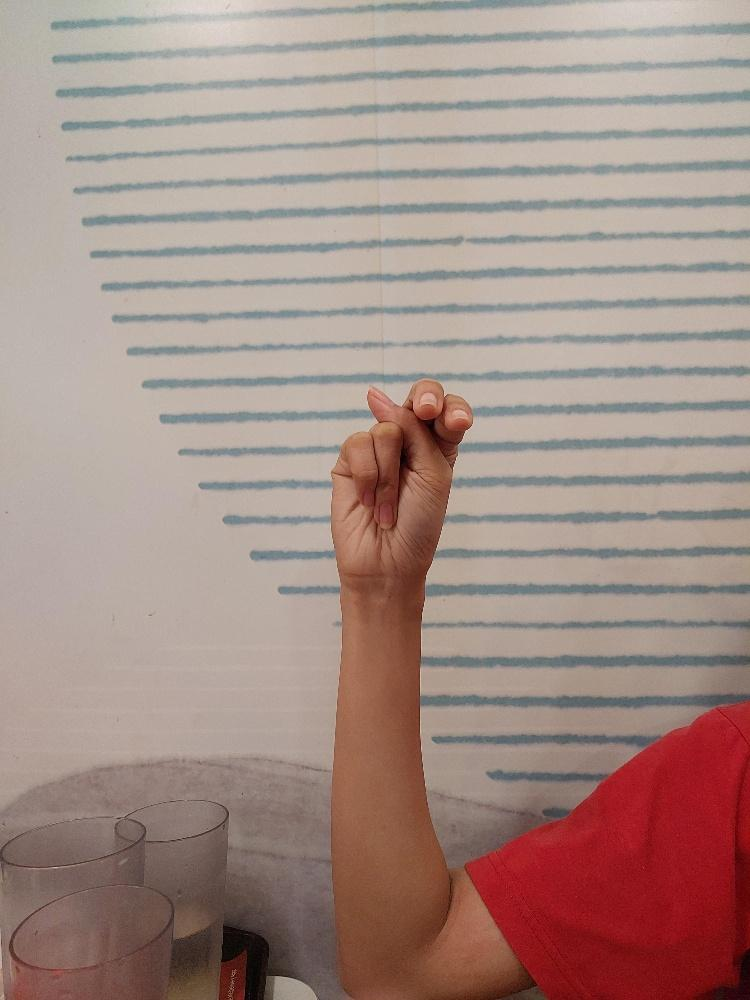n: (327, 374, 475, 581)
